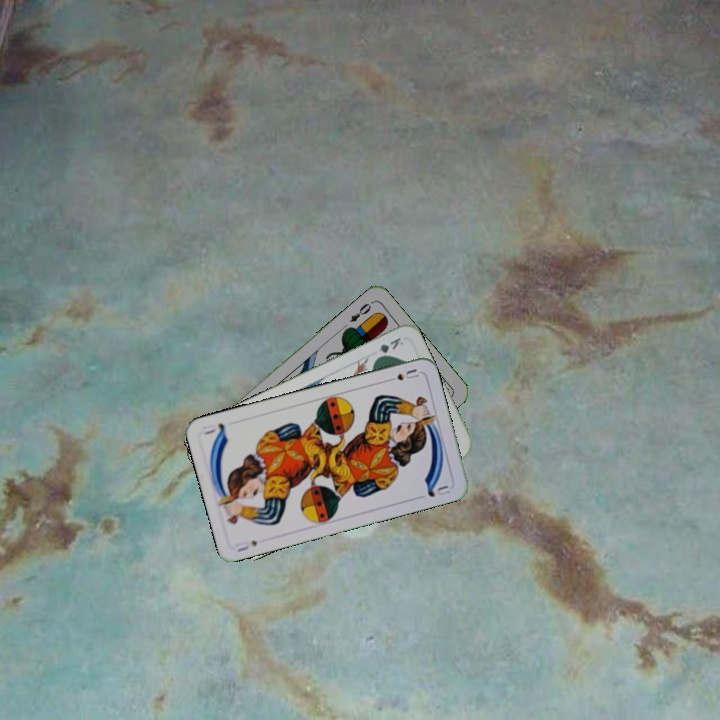EO: (345, 297, 376, 325)
GK: (371, 333, 406, 362)
SU: (382, 365, 421, 385), (231, 536, 260, 555)
